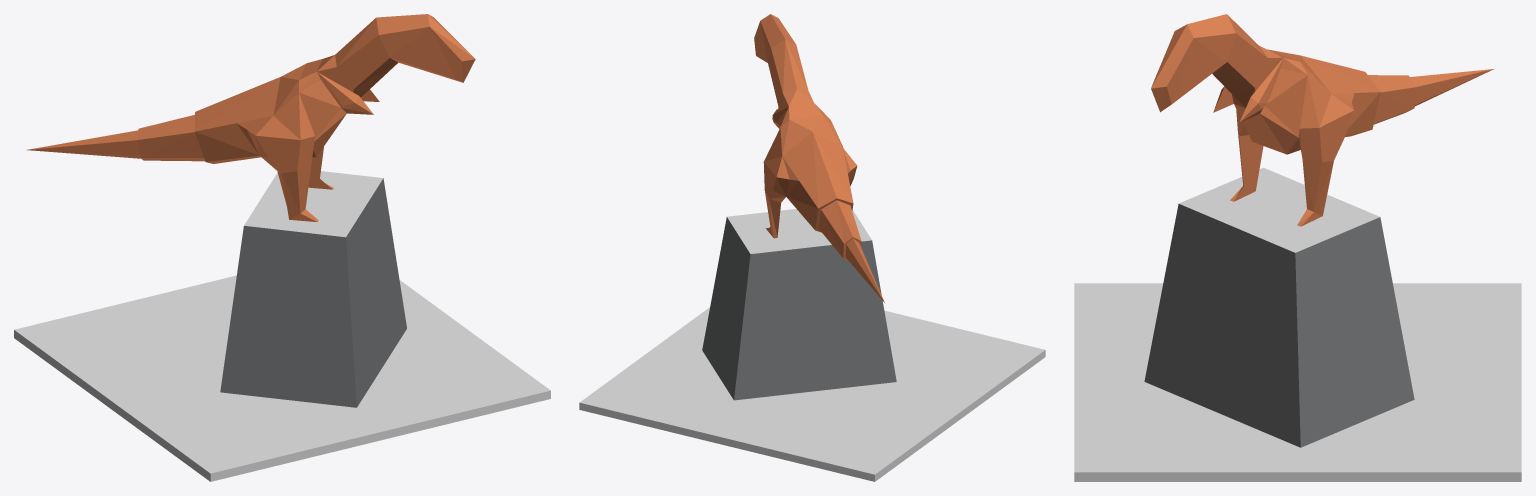
Rendered from dinozor.dae.
The picture shows the model from 3 angles, left to right: view 1: azimuth 30°, elevation 25°; view 2: azimuth 150°, elevation 25°; view 3: azimuth 270°, elevation 25°; orthographic projection. The views are drawn at different scales.
Visible parts, largest first — view 1: SketchUp (×4); view 2: SketchUp (×4); view 3: SketchUp (×4).
Boxes of the visible parts, x1,y1,x2,y2 form: SketchUp (×4): [14, 14, 550, 481]; SketchUp (×4): [579, 14, 1045, 481]; SketchUp (×4): [1074, 14, 1521, 481].
Bounding box in the file's own units: 134 × 134 × 138.
3 materials, 3 textured.
